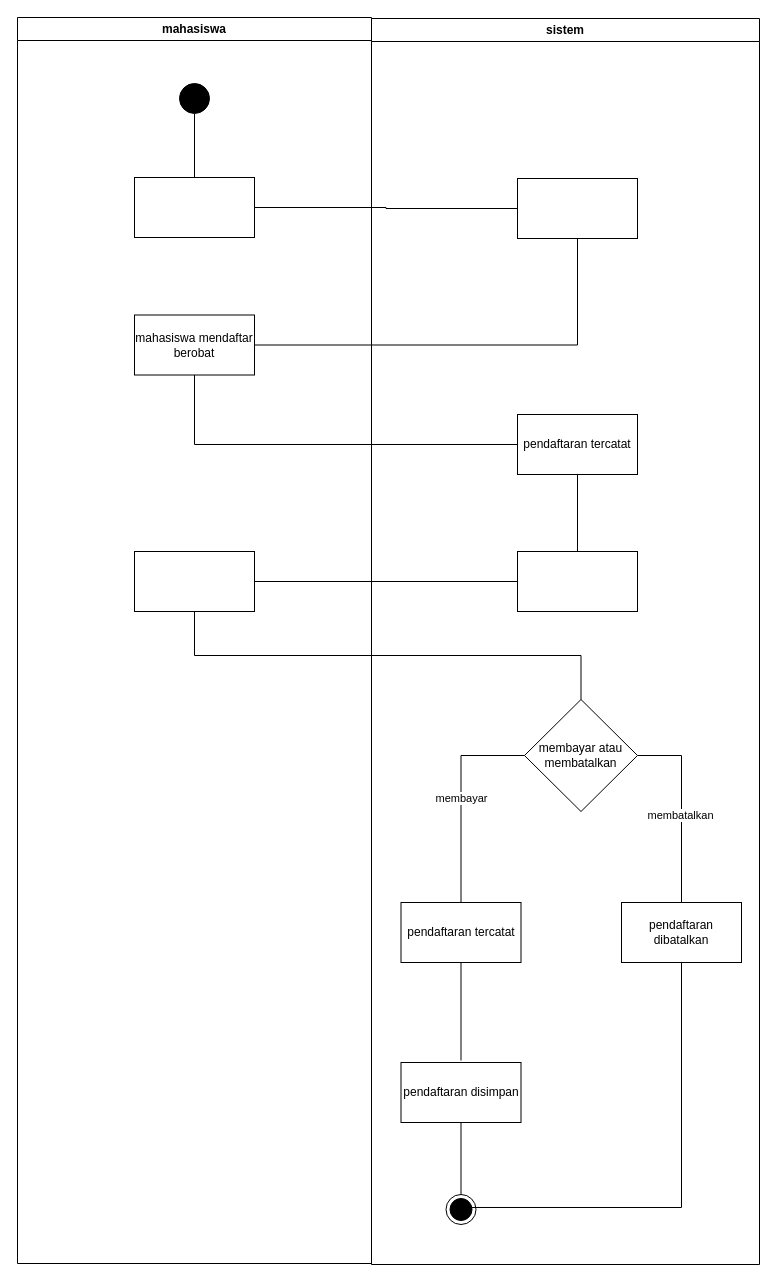
This 777x1282 diagram has some shape labels left out. The shapes that lost their labels are listed below. From the top down, each one's centre as x and y in pixels, then its label:
At pixel 194 207: "mahasiswa melihat jadwal dokter".
At pixel 577 208: "sistem memeriksa ketersediaan jadwal".
At pixel 194 581: "mahasiswa membayar administrasi".
At pixel 577 581: "sistem menunggu pembayaran".
